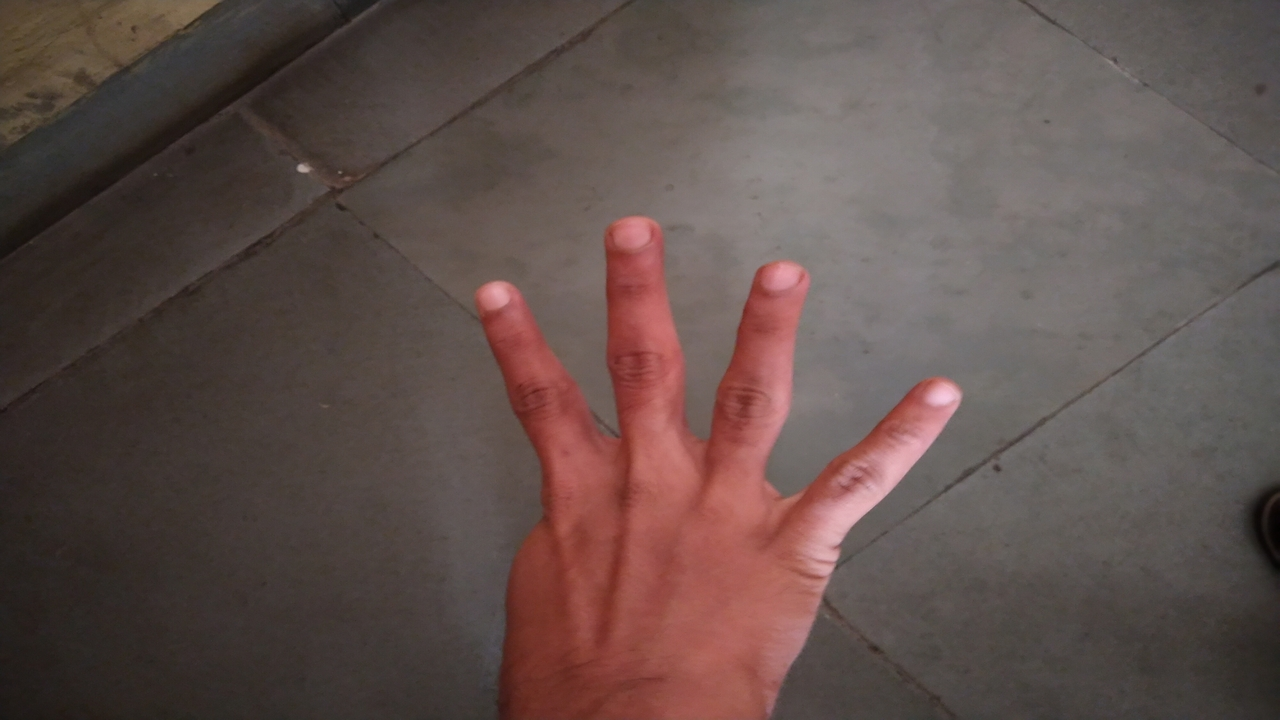fingertip: (738, 252, 818, 314), (600, 210, 670, 274), (468, 270, 530, 334), (904, 368, 972, 424)
